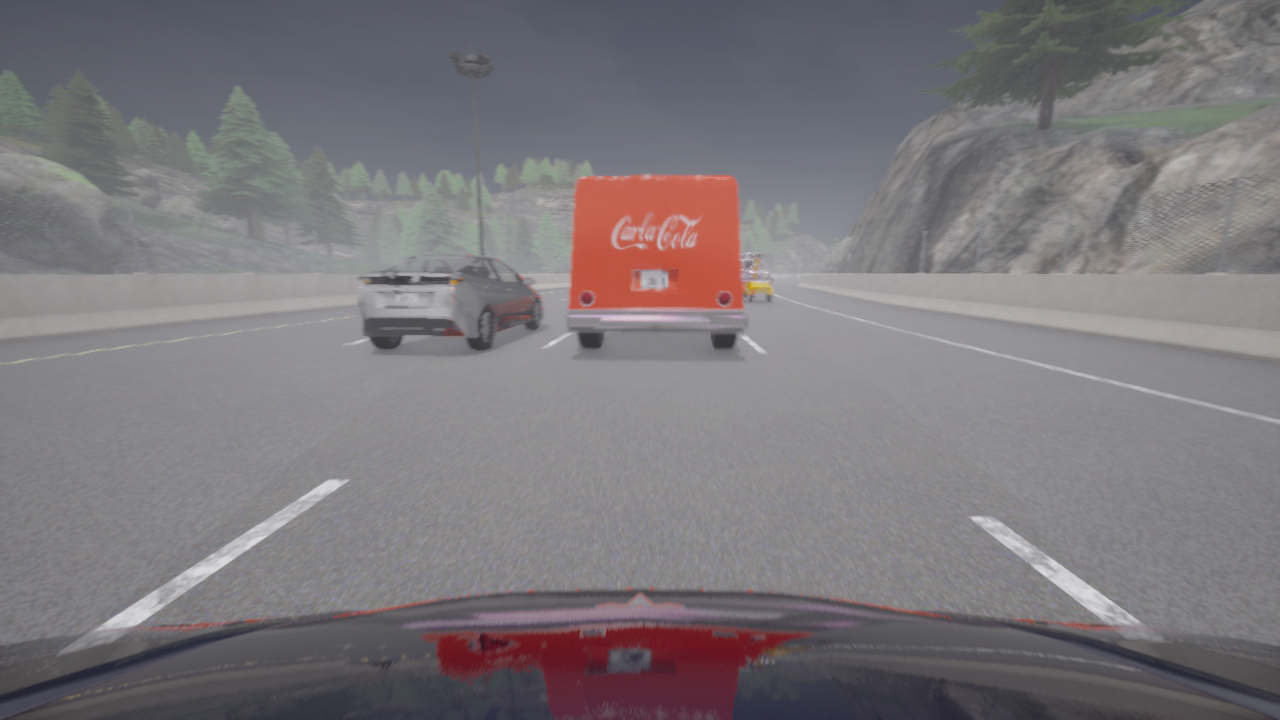cyclist: (0, 588, 1279, 719), (566, 176, 748, 349), (356, 255, 542, 350), (741, 270, 773, 302), (740, 253, 765, 278)
